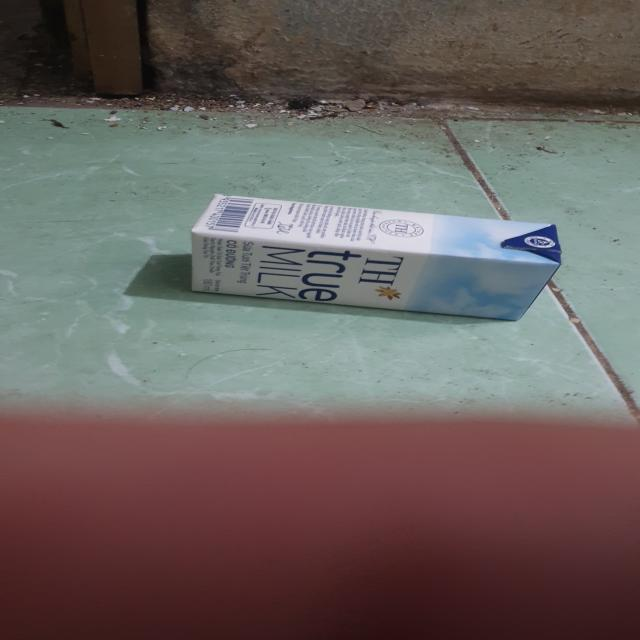TH: (189, 194, 563, 323)
